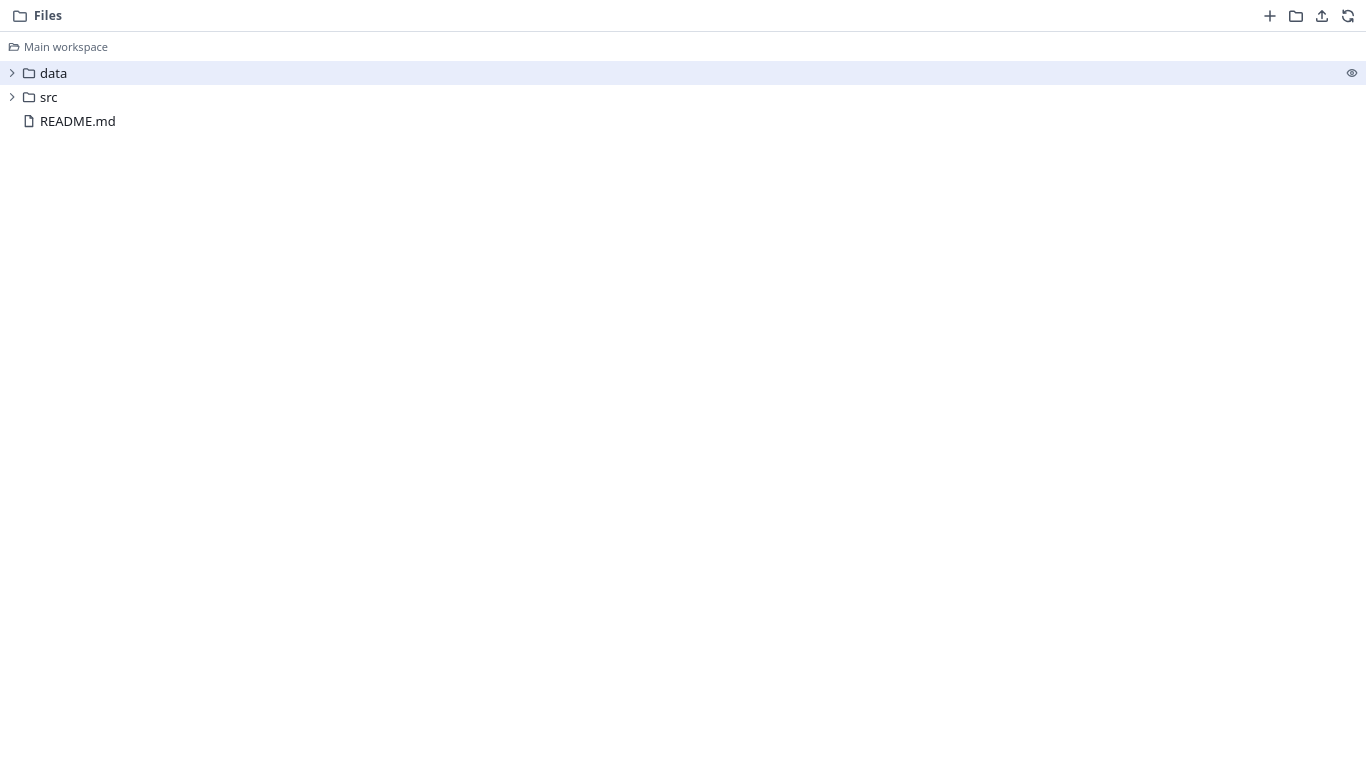
Test: FilesPanel: create / rename / delete (with confirmation) and the context menu › the header creates in the root until a row is focused, then in that row's folder (never in the first row by default)
Step 1. Click the button named "New file" → (1270, 16), box x1=1258 y1=4 x2=1282 y2=28
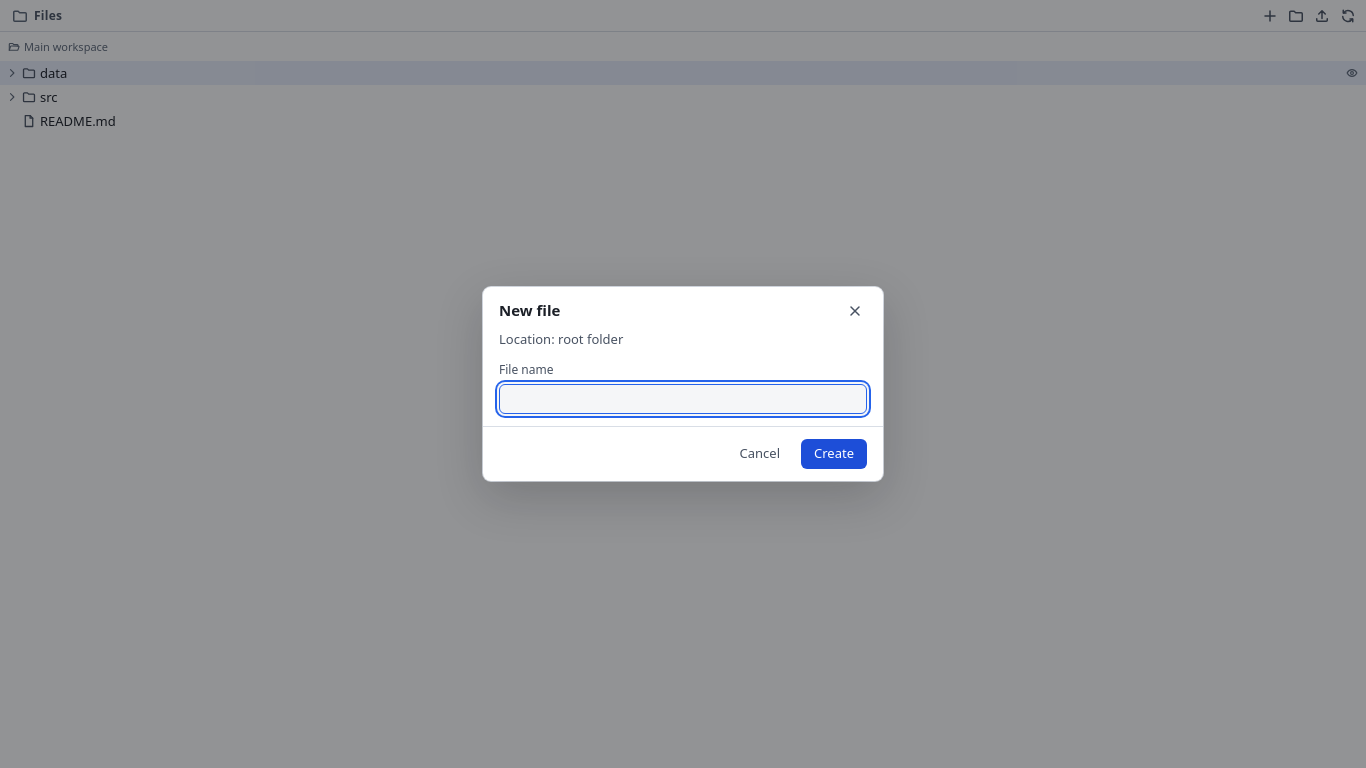
Result: the text "Location: root folder" is shown at x1=499 y1=330 x2=623 y2=348
Step 2. Click the button "Cancel" → (760, 454), box x1=726 y1=439 x2=793 y2=469
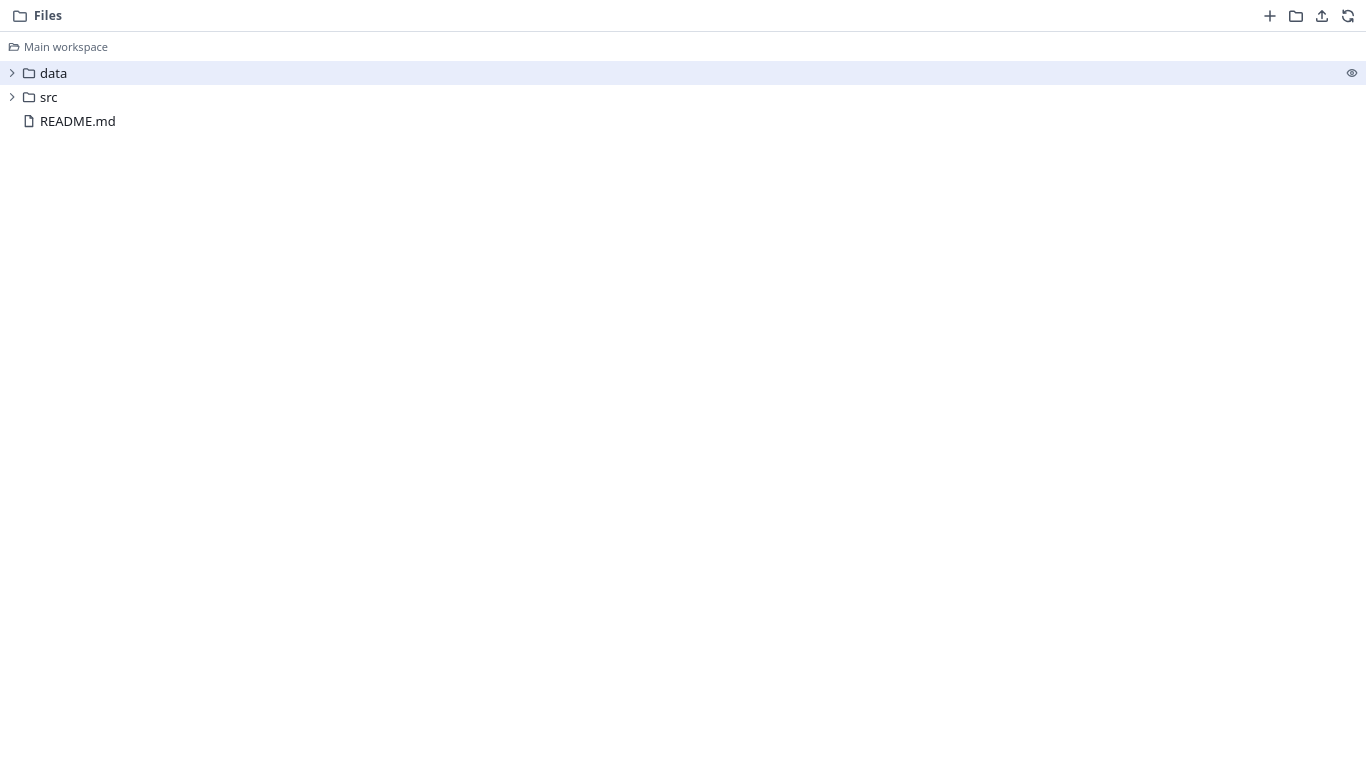
Step 3. Click the list item "src" → (32, 97), box x1=6 y1=88 x2=58 y2=106
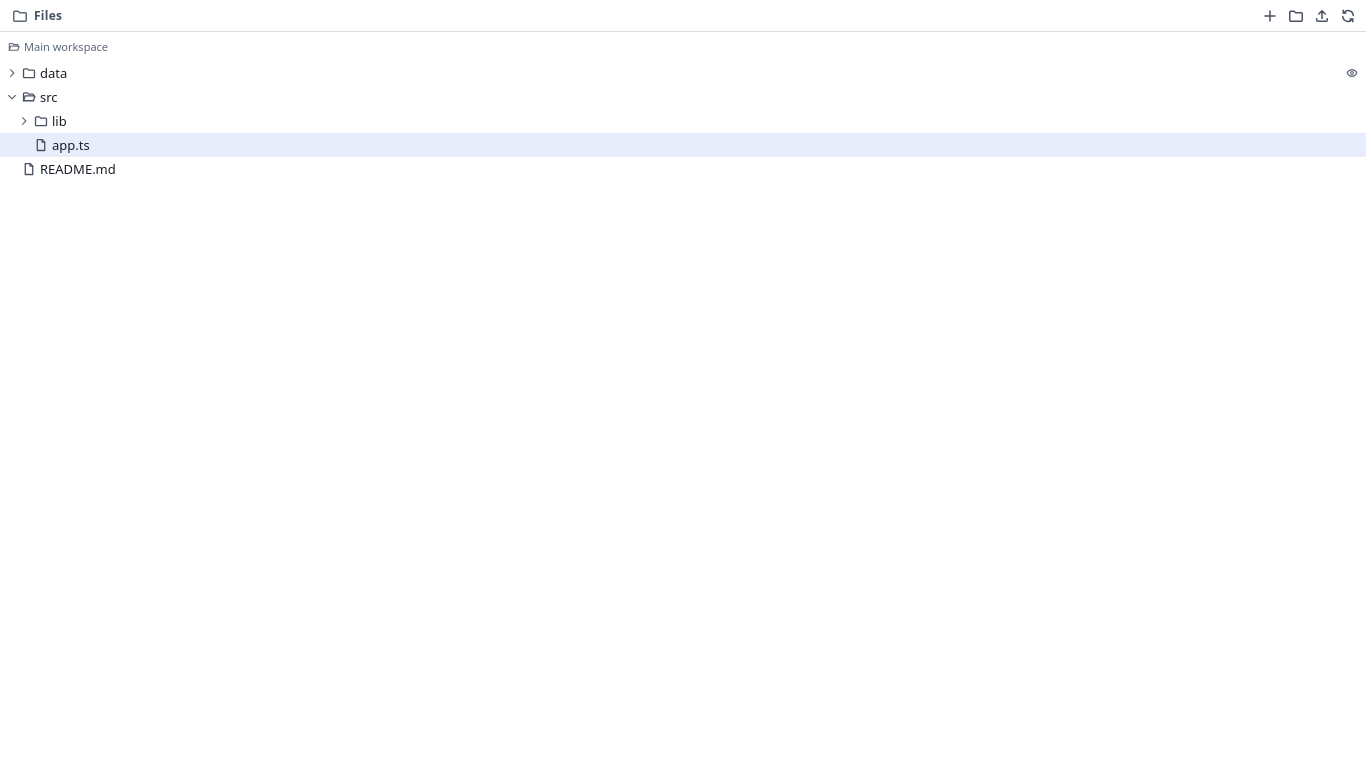
Step 4. Click the button named "New file" → (1270, 16), box x1=1258 y1=4 x2=1282 y2=28
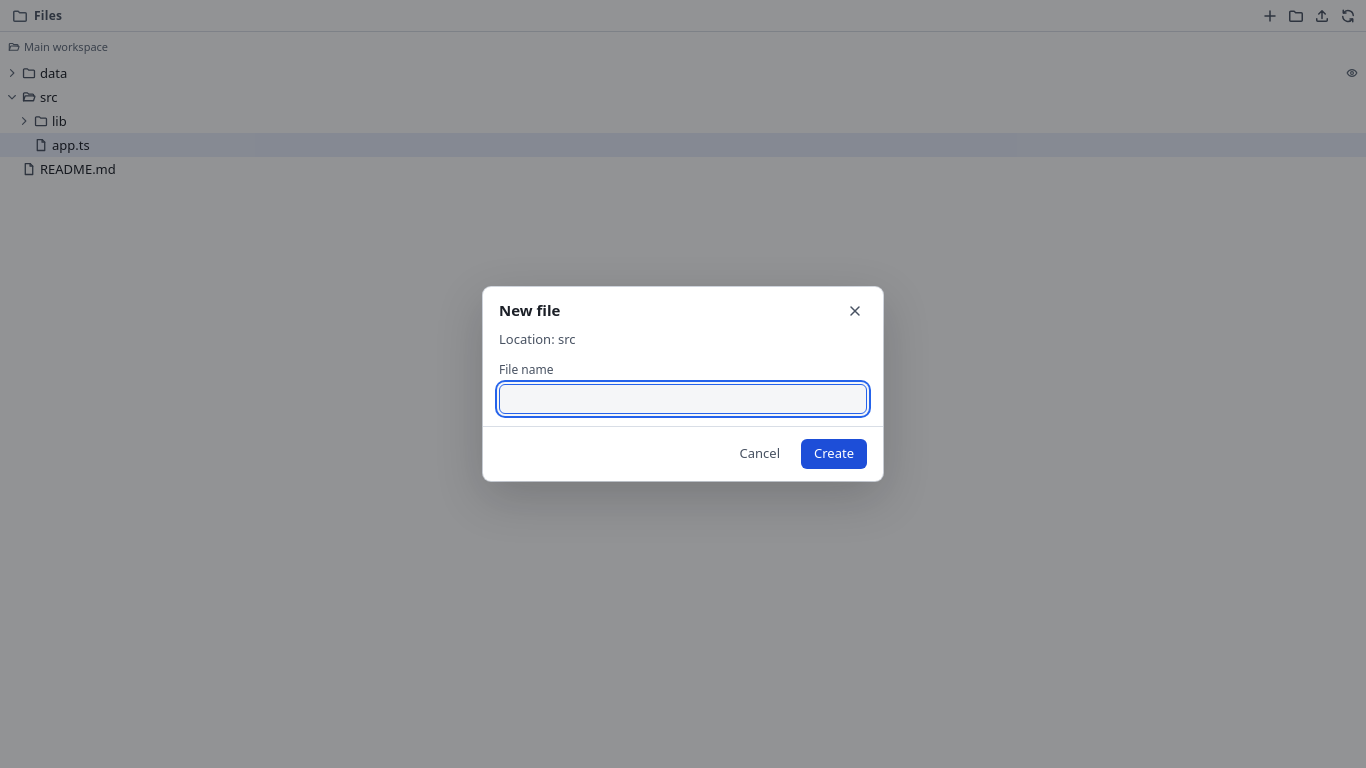
Result: the text "Location: src" is shown at x1=499 y1=330 x2=576 y2=348
